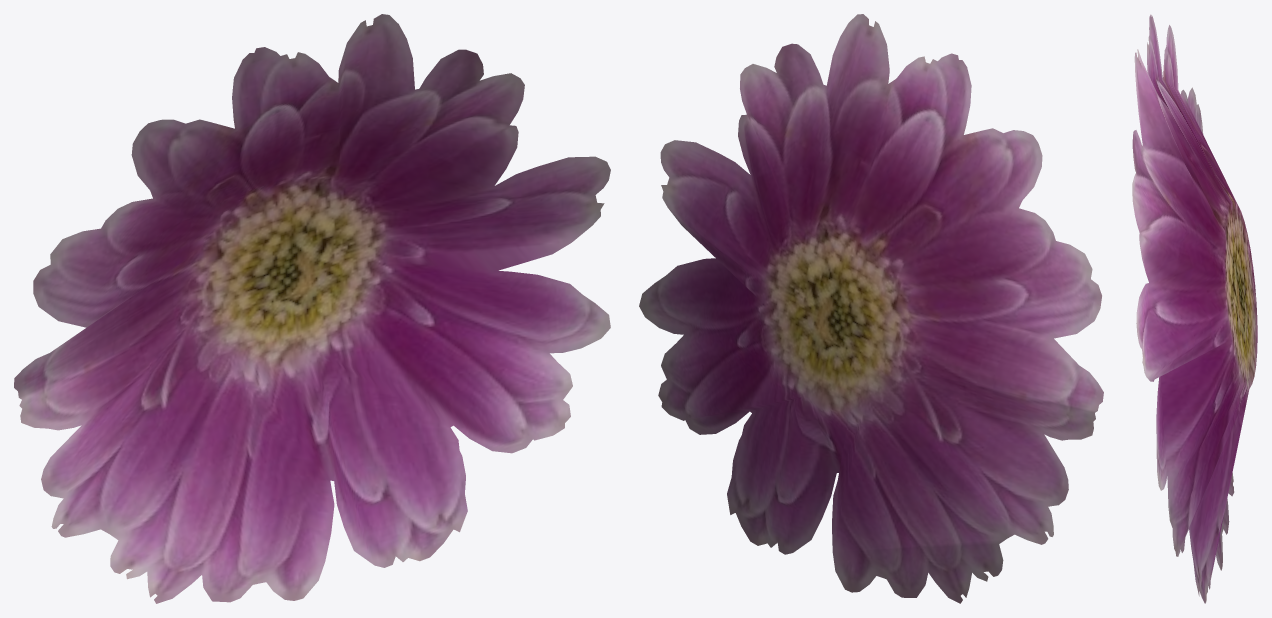
3 views of the same model, side by side, from view 1: azimuth 30°, elevation 25°; view 2: azimuth 150°, elevation 25°; view 3: azimuth 270°, elevation 25° (orthographic). The views are drawn at different scales.
Parts seen in each view (by area): view 1: Plane.004; view 2: Plane.004; view 3: Plane.004.
Boxes of the visible parts, <box> form: Plane.004: <box>14,14,610,603</box>; Plane.004: <box>639,14,1103,603</box>; Plane.004: <box>1132,14,1257,603</box>.
Bounding box in the file's own units: 1.28 × 1.33 × 0.285.
1 material, 1 textured.
